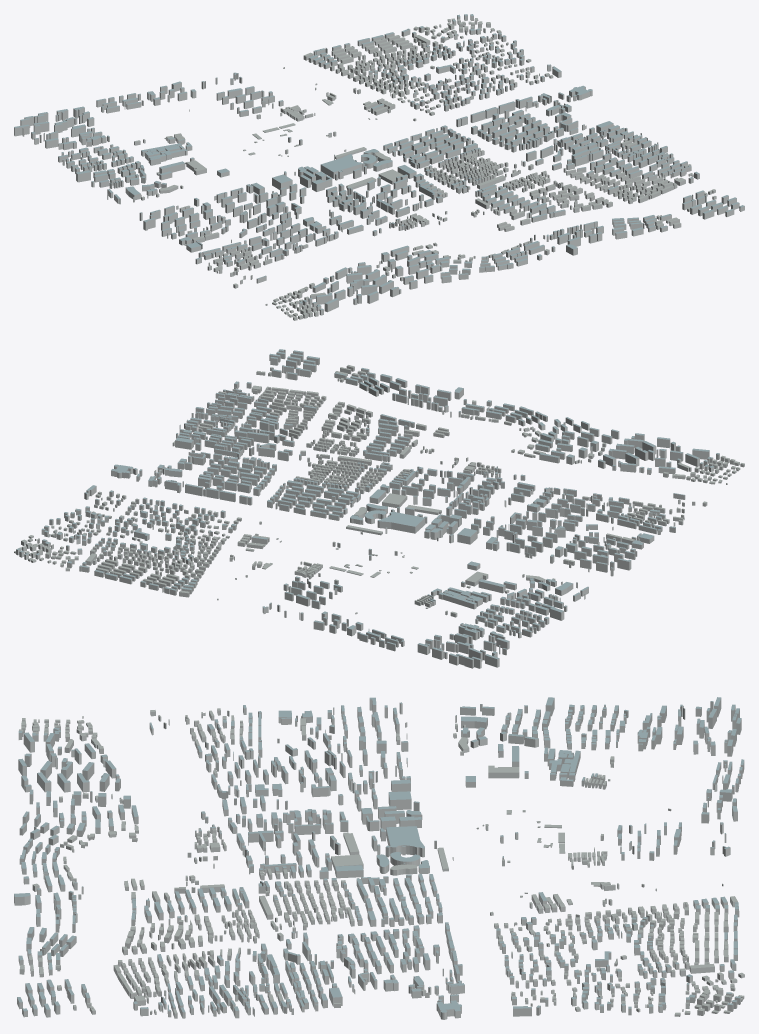
File: far.glb
3 renders of one model, top to bottom at view 1: azimuth 30°, elevation 25°; view 2: azimuth 150°, elevation 25°; view 3: azimuth 270°, elevation 25°, orthographic. The views are drawn at different scales.
Size of the model in its own units: 2137 by 36.8 by 2118.
